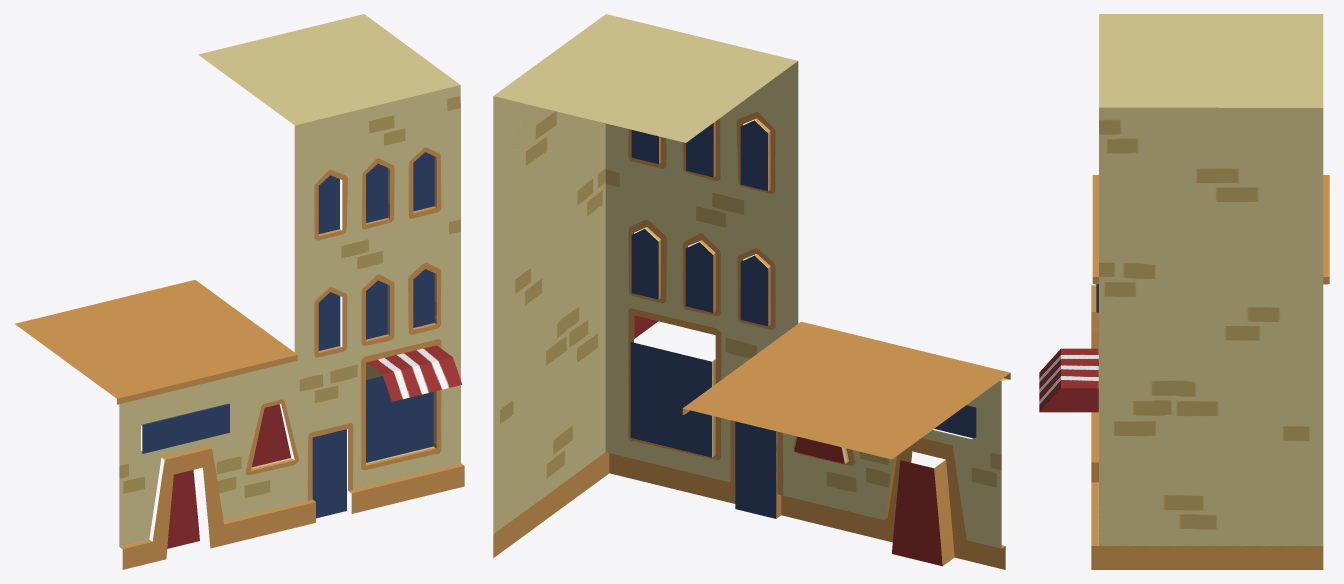
File: Building_R_Main.fbx
The picture shows the model from 3 angles, left to right: view 1: azimuth 30°, elevation 25°; view 2: azimuth 150°, elevation 25°; view 3: azimuth 270°, elevation 25°; orthographic projection. The views are drawn at different scales.
Visible parts, largest first — view 1: Building_R; view 2: Building_R; view 3: Building_R.
Boxes of the visible parts, box(x1,y1,x2,y2) form: Building_R: box(15, 14, 464, 569); Building_R: box(493, 14, 1010, 569); Building_R: box(1039, 14, 1329, 569).
Size of the model in its own units: 790 by 868 by 495.
Materials: 1 (1 with a texture image).
